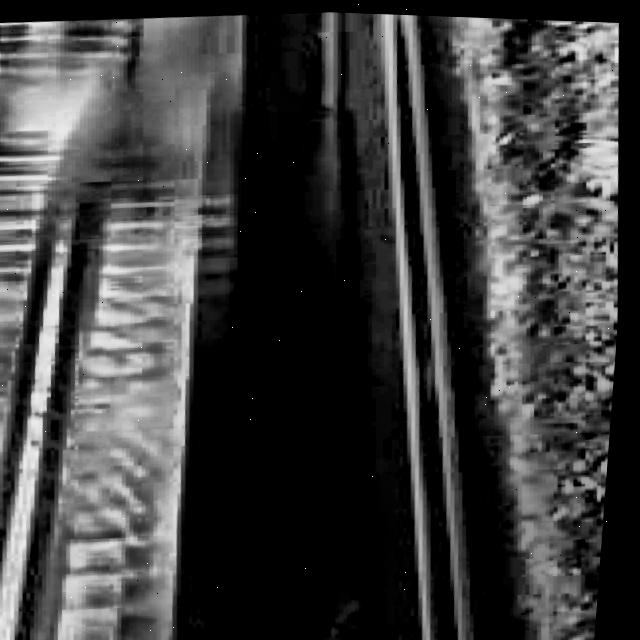Kereta: (0, 210, 290, 640), (0, 1, 304, 293)
